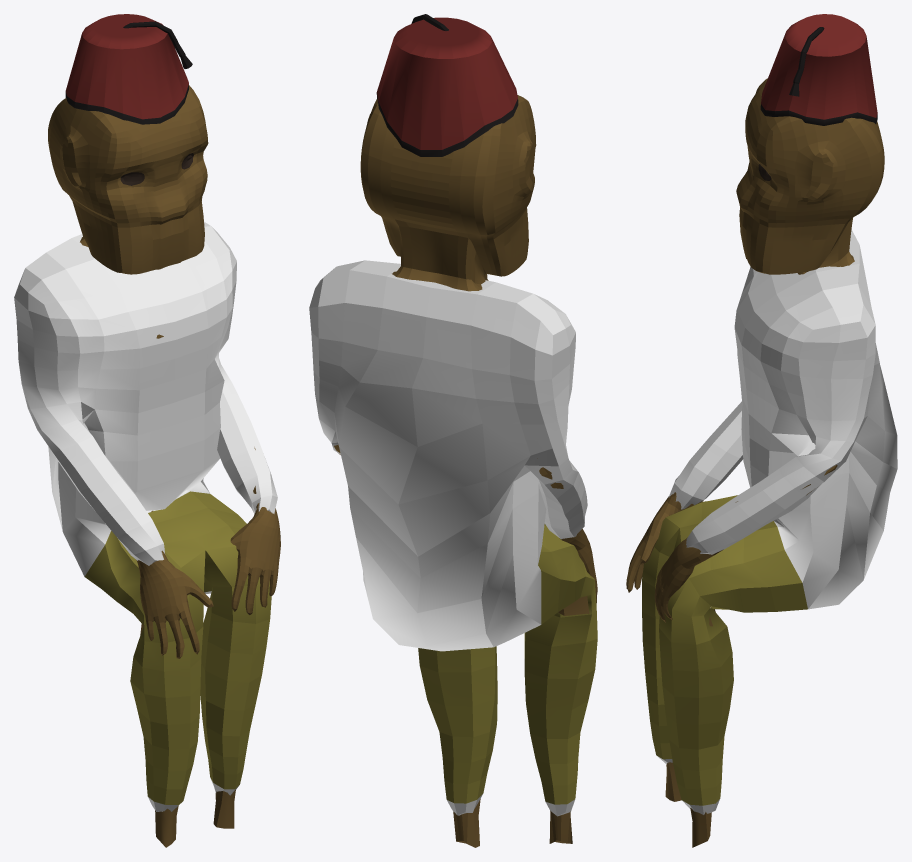
Rendered from Anil_IndianCharacter_v03.fbx.
The picture shows the model from 3 angles, left to right: view 1: azimuth 30°, elevation 25°; view 2: azimuth 150°, elevation 25°; view 3: azimuth 270°, elevation 25°; orthographic projection. The views are drawn at different scales.
Visible parts, largest first — view 1: Indian_Character; view 2: Indian_Character; view 3: Indian_Character.
Part boxes in pixels (<box>): Indian_Character: <box>14,14,280,847</box>; Indian_Character: <box>309,14,597,847</box>; Indian_Character: <box>626,14,897,847</box>.
Size of the model in its own units: 8.08 by 28.89 by 8.87.
